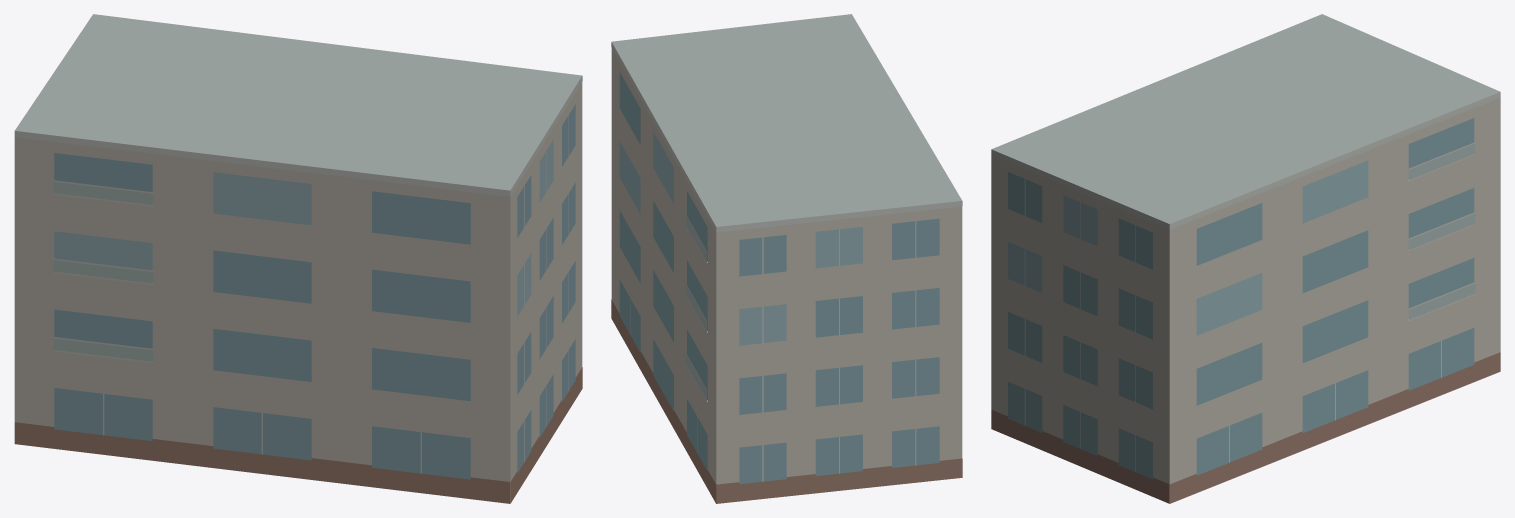
File: survey-upis-32562957.glb
3 renders of one model, left to right at view 1: azimuth 30°, elevation 25°; view 2: azimuth 150°, elevation 25°; view 3: azimuth 270°, elevation 25°, orthographic. The views are drawn at different scales.
Parts seen in each view (by area): view 1: survey-upis-32562957.tmp; view 2: survey-upis-32562957.tmp; view 3: survey-upis-32562957.tmp.
Part boxes in pixels (left/top/right/bottom): survey-upis-32562957.tmp: left=14, top=14, right=582, bottom=503; survey-upis-32562957.tmp: left=611, top=14, right=962, bottom=503; survey-upis-32562957.tmp: left=991, top=14, right=1500, bottom=503.
Size of the model in its own units: 19.67 by 12.2 by 20.14.
